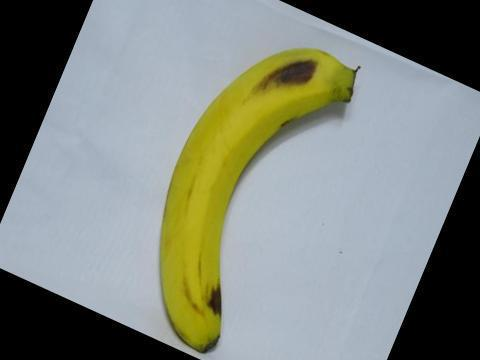freshripe: (139, 30, 371, 359)
